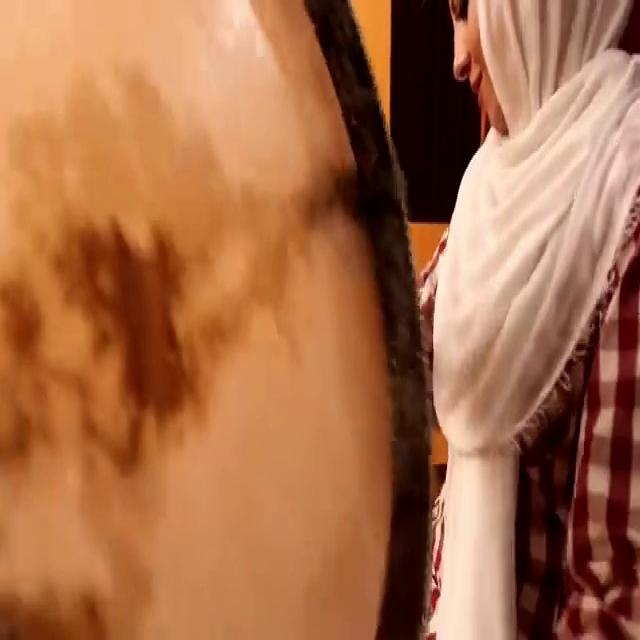Daf: (0, 0, 433, 640)
